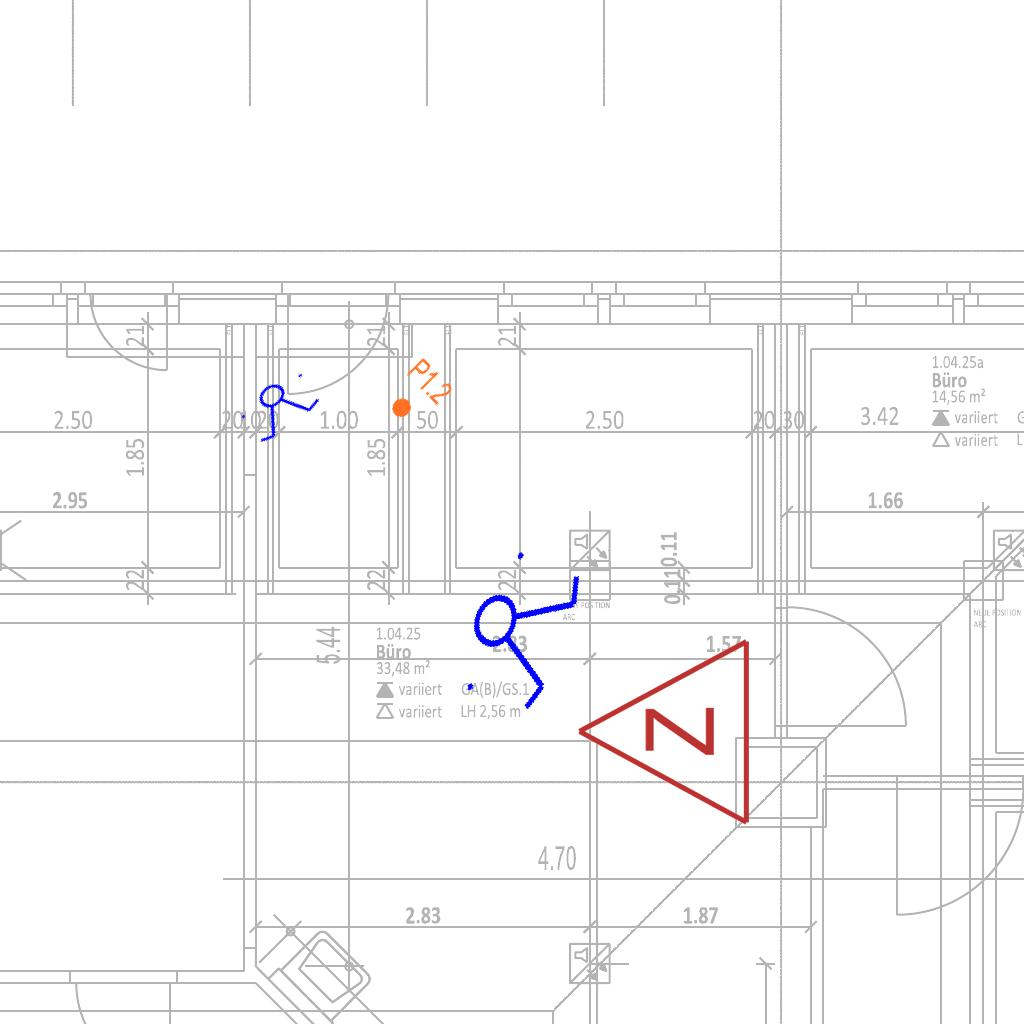Downlight_LED_Einbauleuchten_Flur: (378, 355, 456, 433)
Serienschalter: (445, 533, 595, 725), (231, 361, 329, 451)
Zimmersignalleuchte: (564, 636, 764, 832)
